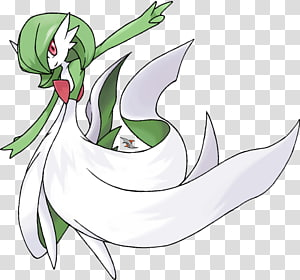gardevoir: (1, 1, 299, 280)
